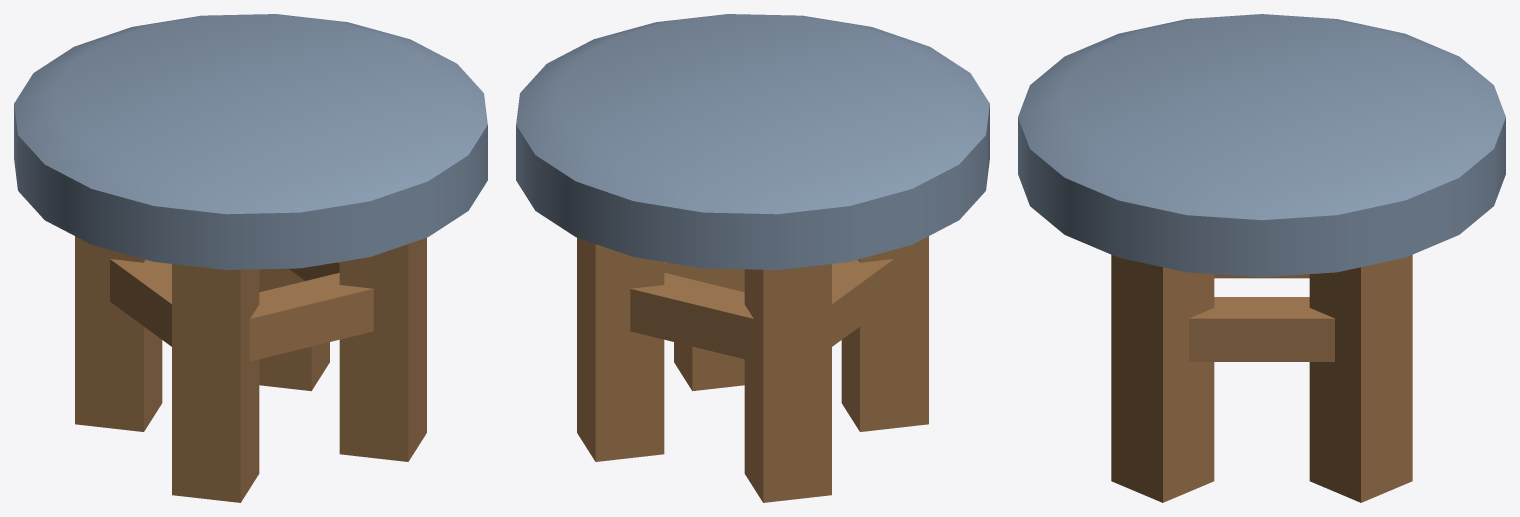
File: Stool.glb
3 views of the same model, side by side, from view 1: azimuth 30°, elevation 25°; view 2: azimuth 150°, elevation 25°; view 3: azimuth 270°, elevation 25° (orthographic). The views are drawn at different scales.
Visible parts, largest first — view 1: Environment_Stool; view 2: Environment_Stool; view 3: Environment_Stool.
Part boxes in pixels (x1=…): Environment_Stool: x1=14, y1=14, x2=487, y2=502; Environment_Stool: x1=516, y1=14, x2=989, y2=502; Environment_Stool: x1=1018, y1=14, x2=1505, y2=502.
Size of the model in its own units: 1.14 by 0.8765 by 1.14.
1 material, 1 textured.
